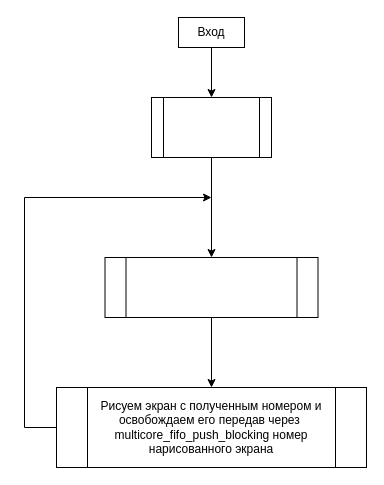
The diagram is 384 pixels wide and 485 high, and some of its shapes have lost their labels. Each missing label, with the box of its shape:
multicore_fifo_pop_blocking(): (104, 256, 318, 318)
Инициализирую экран: (150, 96, 272, 158)
